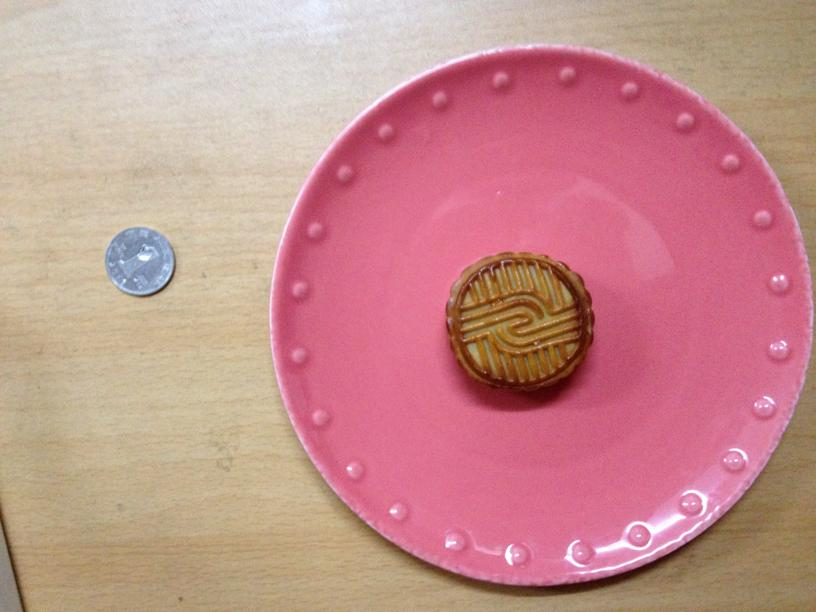coin: (106, 227, 173, 296)
mooncake: (445, 253, 592, 392)
